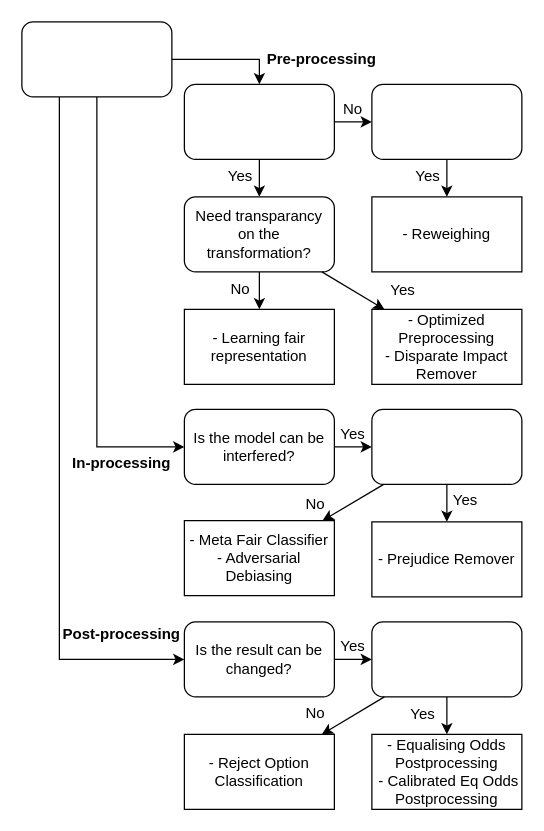
Image size: 544x831. Some labels were removed from this diagram. Each missing label, with the box of its shape:
Allow certain degree of randomization on the result?: (371, 621, 522, 697)
Is modifying weight allowed?: (371, 83, 522, 159)
Is regularisation allowed?: (371, 408, 522, 484)
Is the dataset can be modified?: (183, 83, 334, 159)
Which part of the pipeline is the debiasing algorithm applied?: (21, 21, 172, 97)
